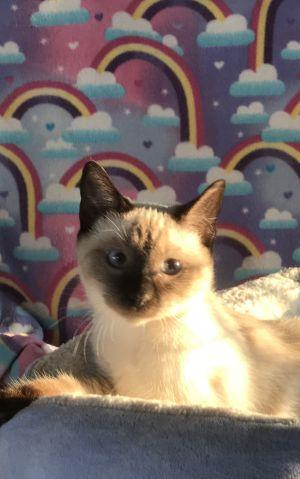siamese: (66, 151, 231, 337)
